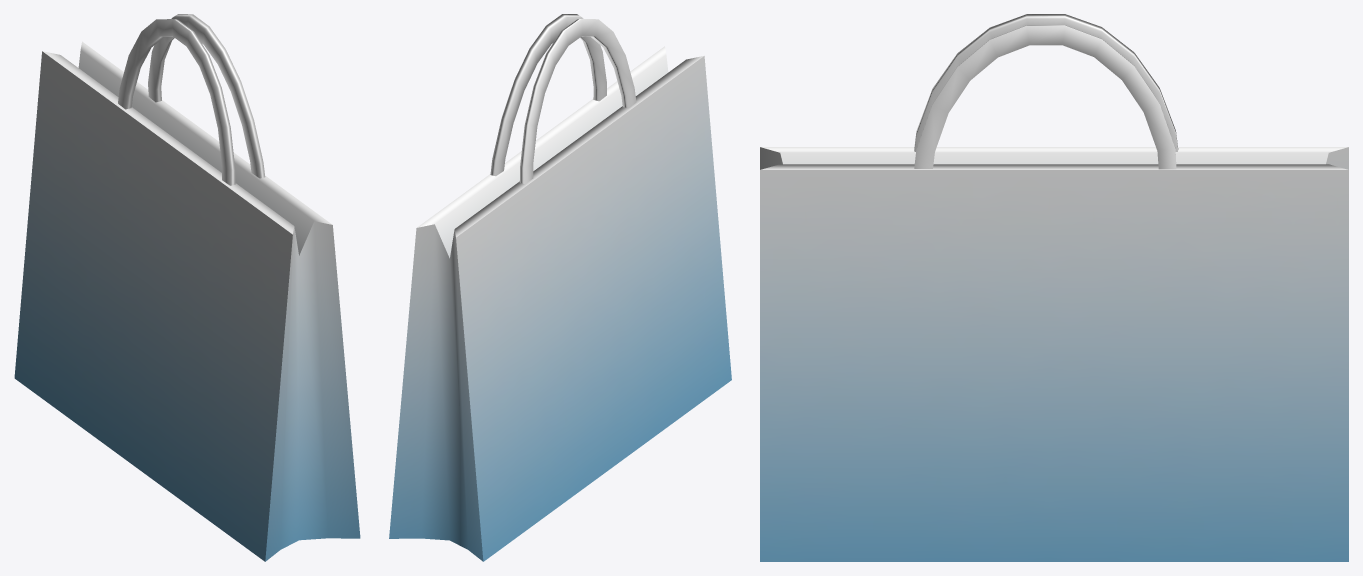
Rendered from PRP_Bag_3.fbx.
3 views of the same model, side by side, from view 1: azimuth 30°, elevation 25°; view 2: azimuth 150°, elevation 25°; view 3: azimuth 270°, elevation 25° (orthographic). The views are drawn at different scales.
Parts seen in each view (by area): view 1: PRP_Bag_3; view 2: PRP_Bag_3; view 3: PRP_Bag_3.
Part boxes in pixels (bbox=[...]): PRP_Bag_3: bbox=[14, 14, 360, 561]; PRP_Bag_3: bbox=[389, 14, 731, 561]; PRP_Bag_3: bbox=[760, 14, 1348, 561].
Bounding box in the file's own units: 15.58 × 68.56 × 71.05.
